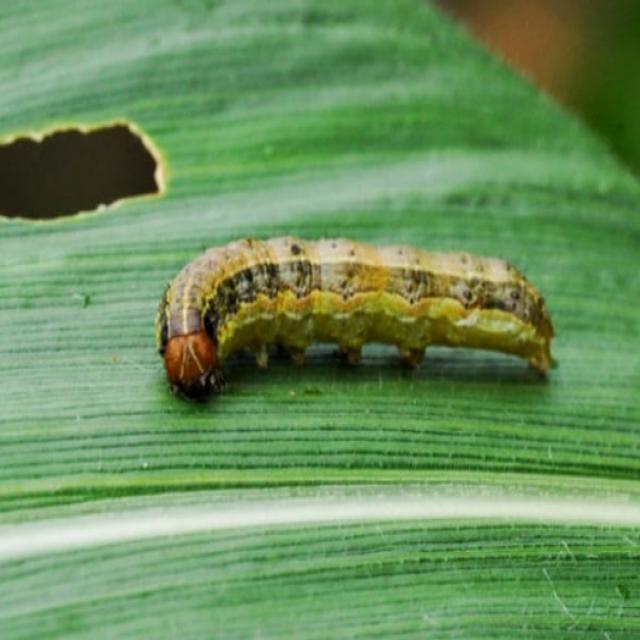armyworm: (154, 232, 556, 402)
